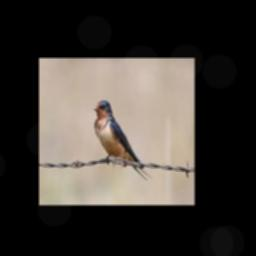Swallow: (93, 101, 153, 179)
